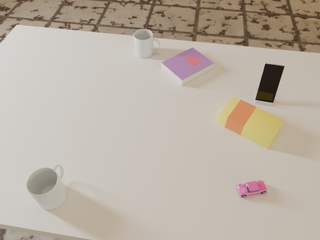book: (161, 48, 214, 86)
box: (218, 97, 284, 149)
cup: (26, 164, 67, 210), (133, 29, 160, 58)
phone: (255, 63, 284, 103)
toy_car: (237, 181, 267, 197)
